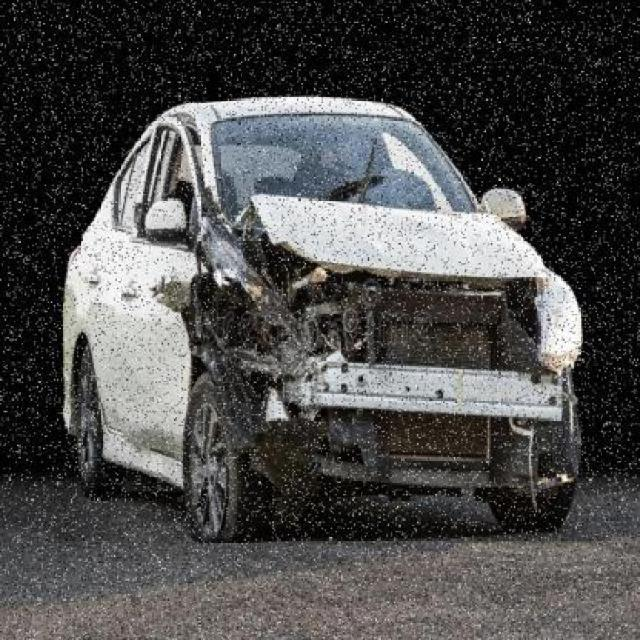bonnet-dent: (240, 186, 551, 310)
